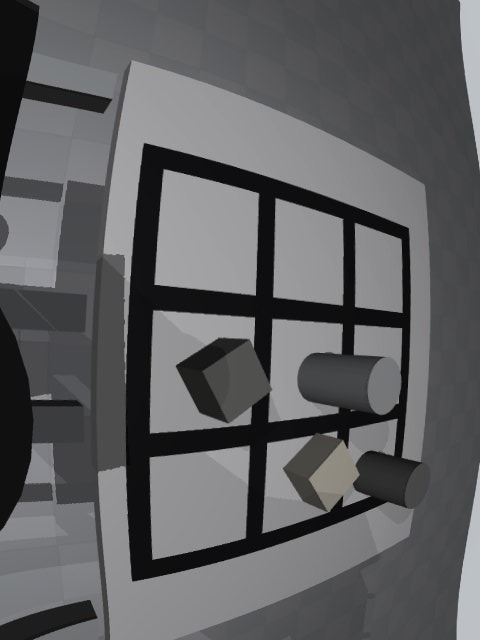can: (297, 353, 402, 415)
cube: (176, 338, 273, 423)
cylinder: (353, 451, 431, 509)
foam: (283, 433, 360, 513)
